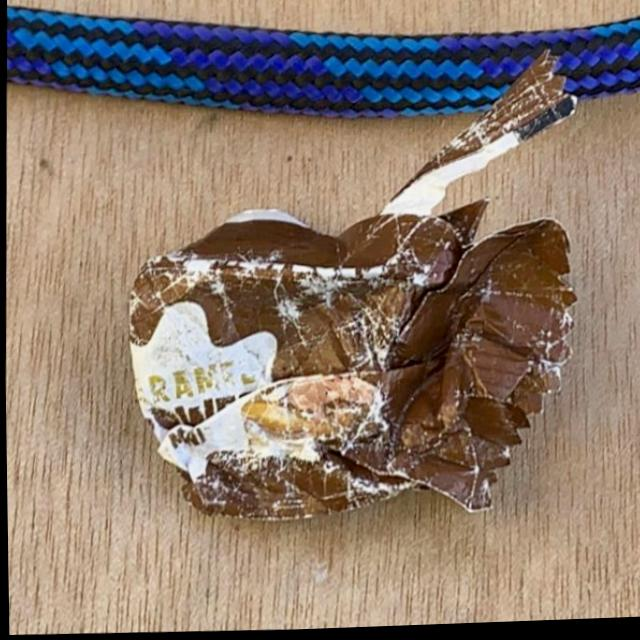Plastic: (113, 41, 589, 542)
